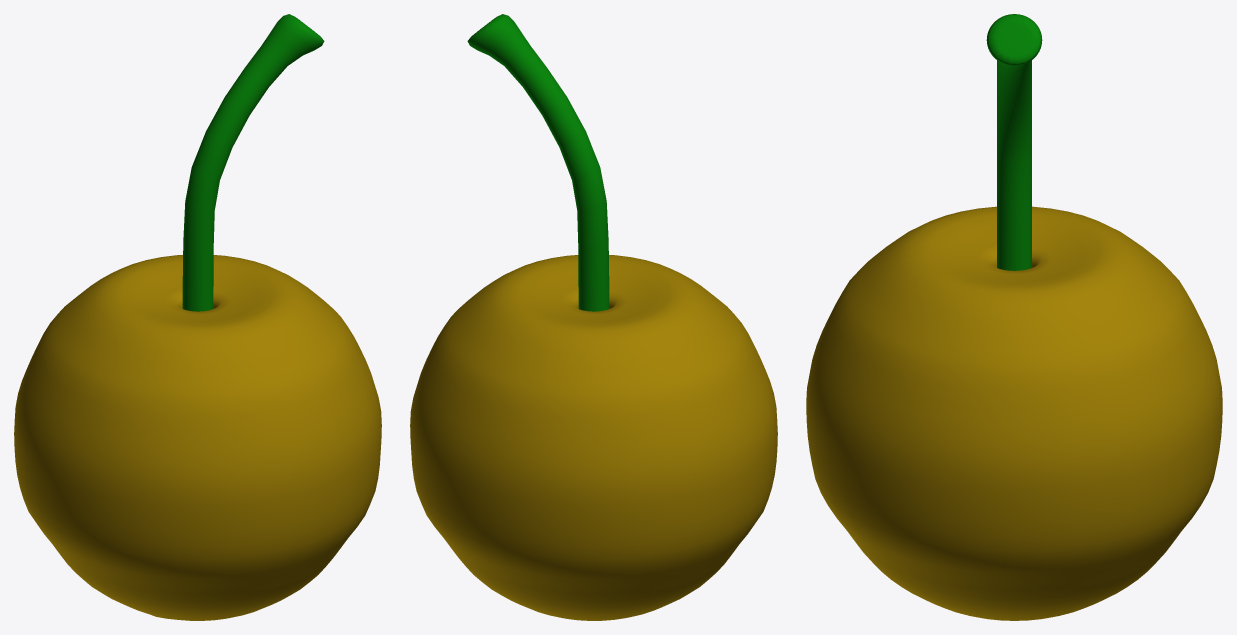
File: zapcherry.fbx
3 renders of one model, left to right at view 1: azimuth 30°, elevation 25°; view 2: azimuth 150°, elevation 25°; view 3: azimuth 270°, elevation 25°, orthographic. The views are drawn at different scales.
Parts seen in each view (by area): view 1: pSphere1; view 2: pSphere1; view 3: pSphere1.
Part boxes in pixels (bbox=[...]): pSphere1: bbox=[14, 14, 381, 620]; pSphere1: bbox=[410, 14, 777, 620]; pSphere1: bbox=[806, 14, 1222, 620].
Bounding box in the file's own units: 1.98 × 3.32 × 1.98.
